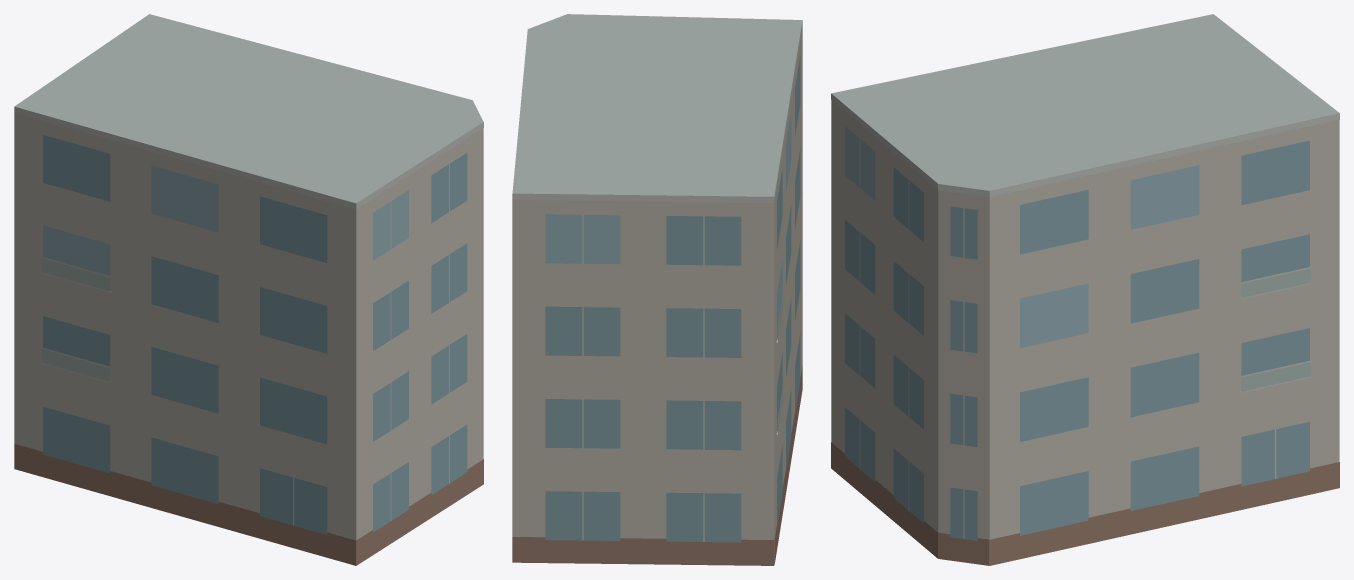
Rendered from survey-upis-32707365.glb.
The picture shows the model from 3 angles, left to right: view 1: azimuth 30°, elevation 25°; view 2: azimuth 150°, elevation 25°; view 3: azimuth 270°, elevation 25°; orthographic projection. The views are drawn at different scales.
Parts seen in each view (by area): view 1: survey-upis-32707365.tmp; view 2: survey-upis-32707365.tmp; view 3: survey-upis-32707365.tmp.
Part boxes in pixels (x1=…): survey-upis-32707365.tmp: x1=14, y1=14, x2=483, y2=565; survey-upis-32707365.tmp: x1=512, y1=14, x2=802, y2=565; survey-upis-32707365.tmp: x1=831, y1=14, x2=1339, y2=565.
Size of the model in its own units: 14.43 by 14.25 by 17.53.
